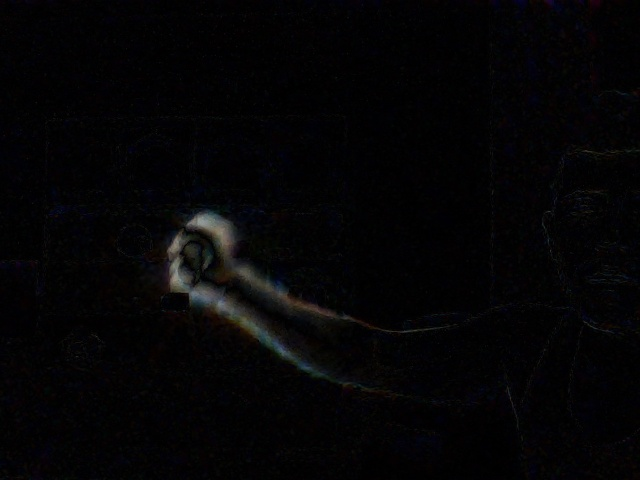hand_fi: (156, 202, 234, 307)
